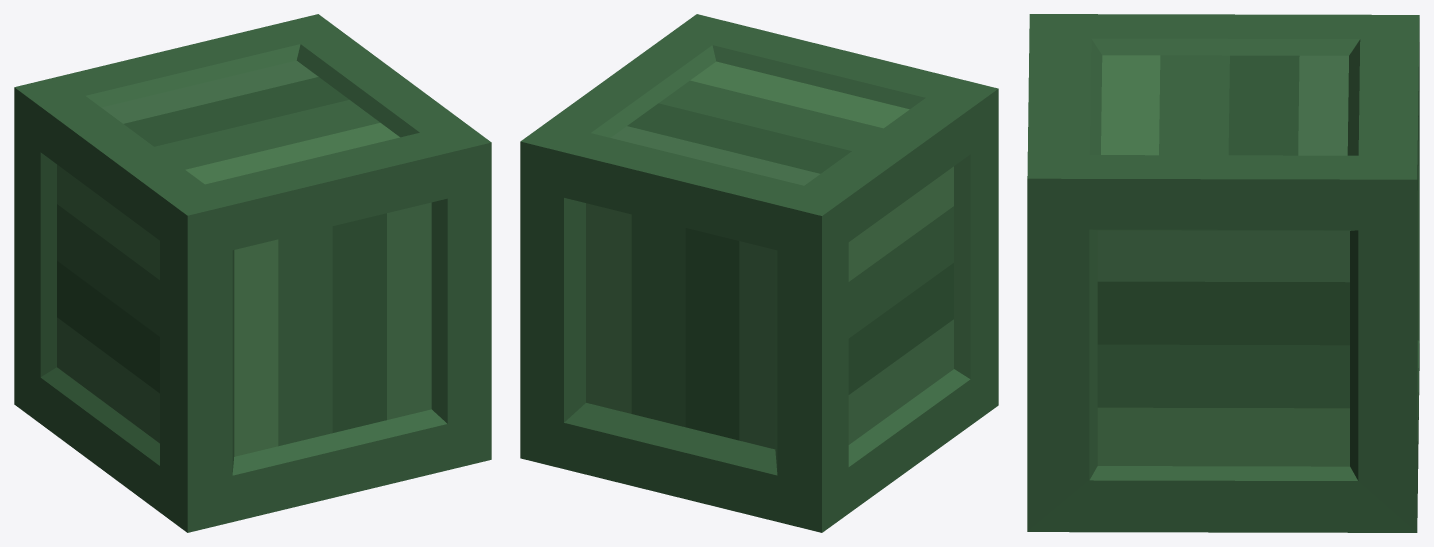
Rendered from Ship_040.glb.
3 renders of one model, left to right at view 1: azimuth 30°, elevation 25°; view 2: azimuth 150°, elevation 25°; view 3: azimuth 270°, elevation 25°, orthographic. The views are drawn at different scales.
Visible parts, largest first — view 1: Ship_040; view 2: Ship_040; view 3: Ship_040.
Part boxes in pixels (left/top/right/bottom): Ship_040: left=14, top=14, right=491, bottom=532; Ship_040: left=520, top=14, right=998, bottom=532; Ship_040: left=1027, top=14, right=1419, bottom=532.
Bounding box in the file's own units: 0.6067 × 0.6033 × 0.6067.
Materials: 1 (1 with a texture image).
